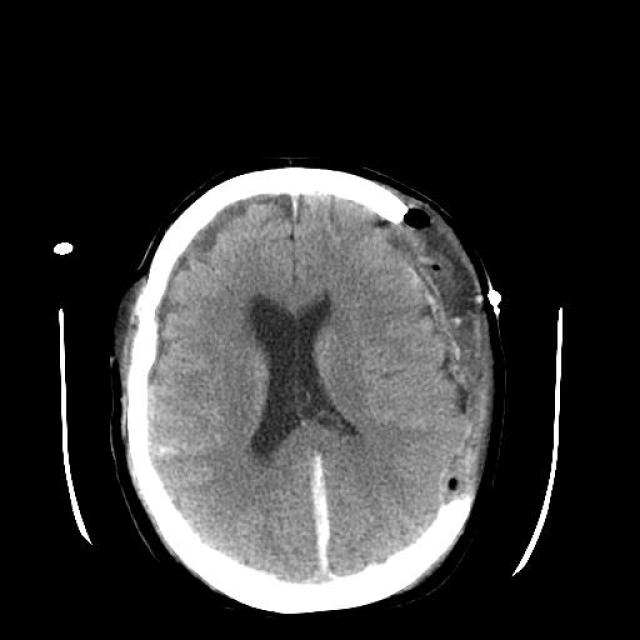Subdural: (286, 448, 376, 594)
